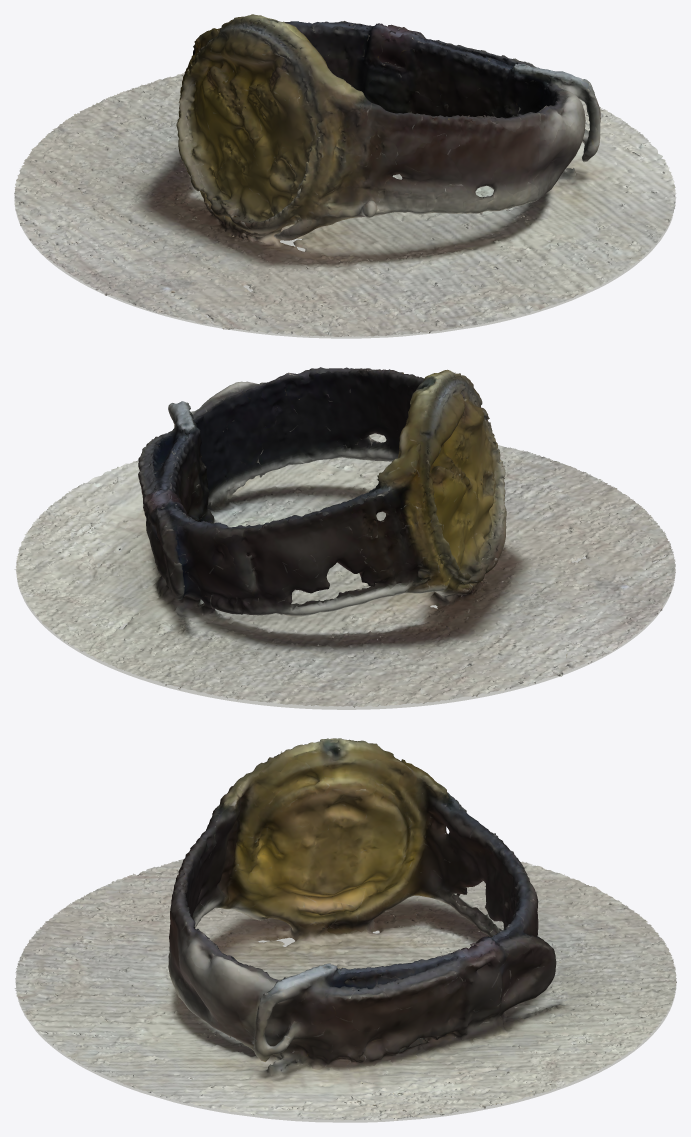
File: reloj.glb
The picture shows the model from 3 angles, top to bottom: view 1: azimuth 30°, elevation 25°; view 2: azimuth 150°, elevation 25°; view 3: azimuth 270°, elevation 25°; orthographic projection.
Parts seen in each view (by area): view 1: objeto, base_rellenada; view 2: objeto, base_rellenada; view 3: objeto, base_rellenada.
Boxes of the visible parts, x1,y1,x2,y2 form: objeto: (14,14,676,336); base_rellenada: (14,192,675,338); objeto: (14,367,675,707); base_rellenada: (16,474,675,709); objeto: (14,738,676,1120); base_rellenada: (15,872,676,1122).
Bounding box in the file's own units: 0.11 × 0.0383 × 0.1101.
Materials: 2 (1 with a texture image).
